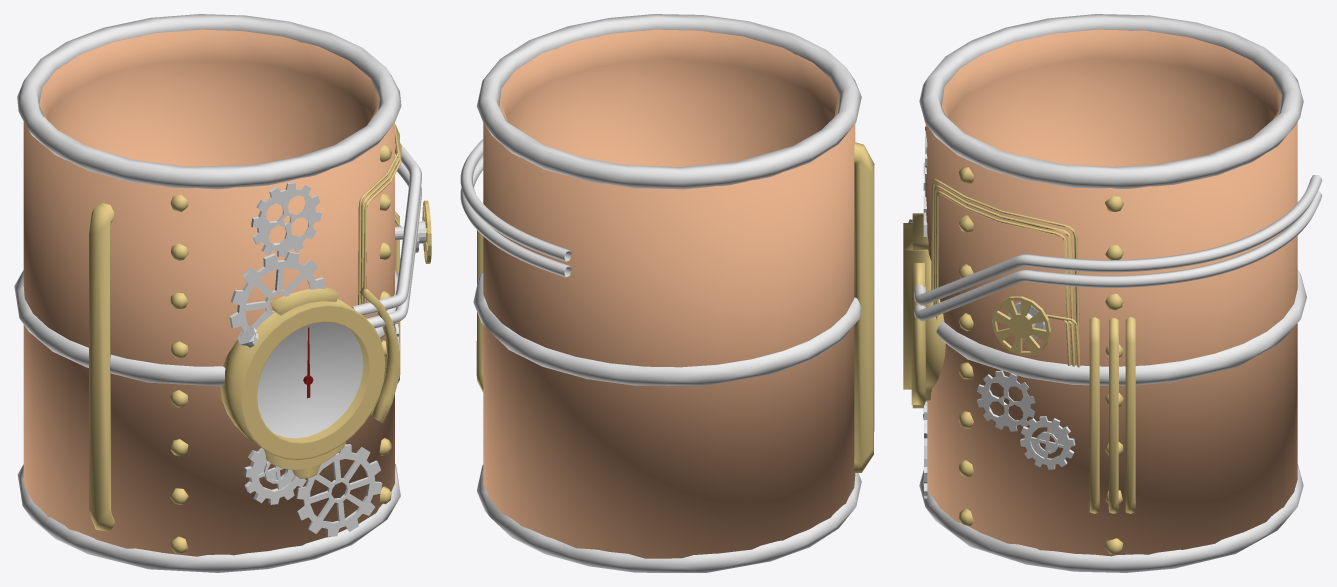
The model's file is Socket.gltf.
3 renders of one model, left to right at view 1: azimuth 30°, elevation 25°; view 2: azimuth 150°, elevation 25°; view 3: azimuth 270°, elevation 25°, orthographic.
Visible parts, largest first — view 1: Cylinder, Cylinder.001, BezierCircle.002, NurbsPath.005, BezierCircle.001, BezierCircle, 2.001, Sphere, 2, gear 3, NurbsPath, 1.001 (+3 smaller); view 2: Cylinder, BezierCircle.002, BezierCircle, BezierCircle.001, NurbsPath.005, NurbsPath, NurbsPath.007, side.002; view 3: Cylinder, BezierCircle.002, BezierCircle, BezierCircle.001, NurbsPath, NurbsPath.007, Cylinder.001, NurbsPath.006, Sphere, Cylinder.002, side.002, side.001 (+3 smaller).
Boxes of the visible parts, box(x1,y1,x2,y2) form: Cylinder: box(23, 29, 394, 556); Cylinder.001: box(220, 287, 399, 478); BezierCircle.002: box(17, 14, 401, 189); NurbsPath.005: box(89, 202, 114, 531); BezierCircle.001: box(17, 464, 400, 572); BezierCircle: box(14, 270, 398, 386); 2.001: box(296, 444, 382, 536); Sphere: box(170, 144, 391, 553); 2: box(229, 251, 325, 340); gear 3: box(251, 182, 321, 257); NurbsPath: box(351, 143, 421, 315); 1.001: box(243, 448, 306, 504); Cylinder: box(483, 29, 855, 558); BezierCircle.002: box(476, 14, 861, 189); BezierCircle: box(473, 271, 861, 385); BezierCircle.001: box(477, 464, 861, 572); NurbsPath.005: box(854, 142, 874, 472); NurbsPath: box(460, 139, 571, 261); NurbsPath.007: box(460, 155, 571, 277); side.002: box(476, 230, 483, 392); Cylinder: box(925, 29, 1297, 556); BezierCircle.002: box(919, 14, 1303, 188); BezierCircle: box(936, 270, 1306, 386); BezierCircle.001: box(919, 464, 1303, 572); NurbsPath: box(914, 175, 1322, 305); NurbsPath.007: box(914, 190, 1322, 321); Cylinder.001: box(903, 213, 945, 408); NurbsPath.006: box(931, 178, 1080, 367); Sphere: box(958, 167, 1123, 554); Cylinder.002: box(992, 296, 1050, 355); side.002: box(1125, 317, 1135, 513); side.001: box(1089, 317, 1099, 513).
Size of the model in its own units: 2.2 by 2.38 by 2.25.
